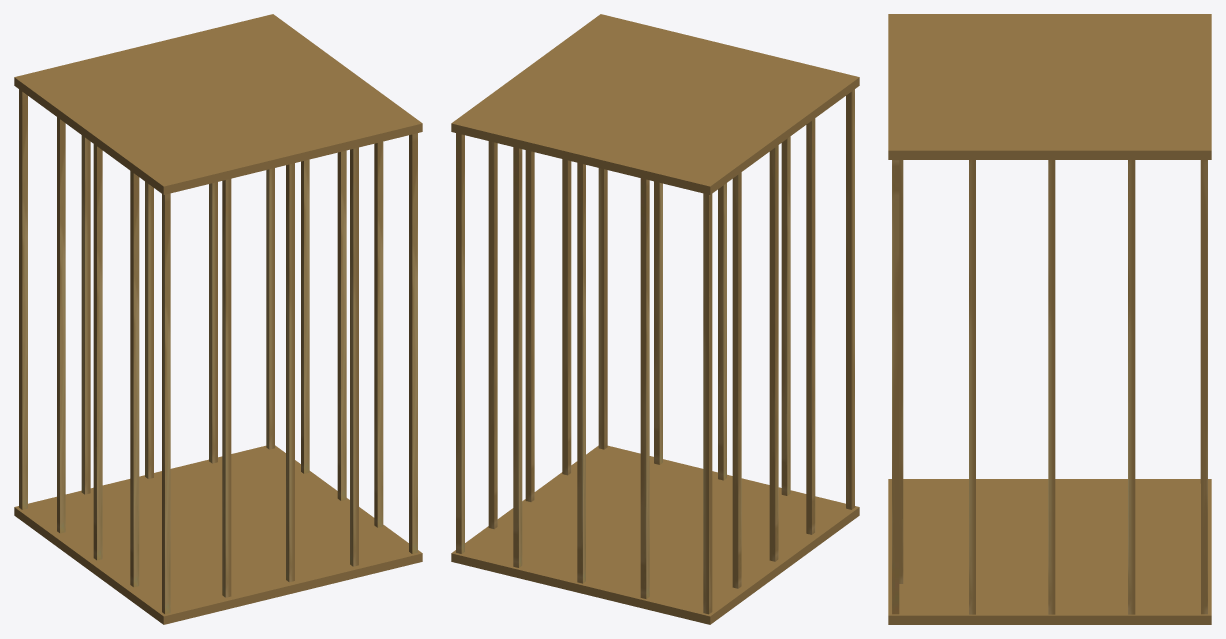
Rendered from jaula.fbx.
The picture shows the model from 3 angles, left to right: view 1: azimuth 30°, elevation 25°; view 2: azimuth 150°, elevation 25°; view 3: azimuth 270°, elevation 25°; orthographic projection. The views are drawn at different scales.
Visible parts, largest first — view 1: cage; view 2: cage; view 3: cage.
Boxes of the visible parts, x1,y1,x2,y2 form: cage: (14, 14, 422, 624); cage: (451, 14, 859, 624); cage: (888, 14, 1211, 624).
Size of the model in its own units: 639 by 1033 by 639.
